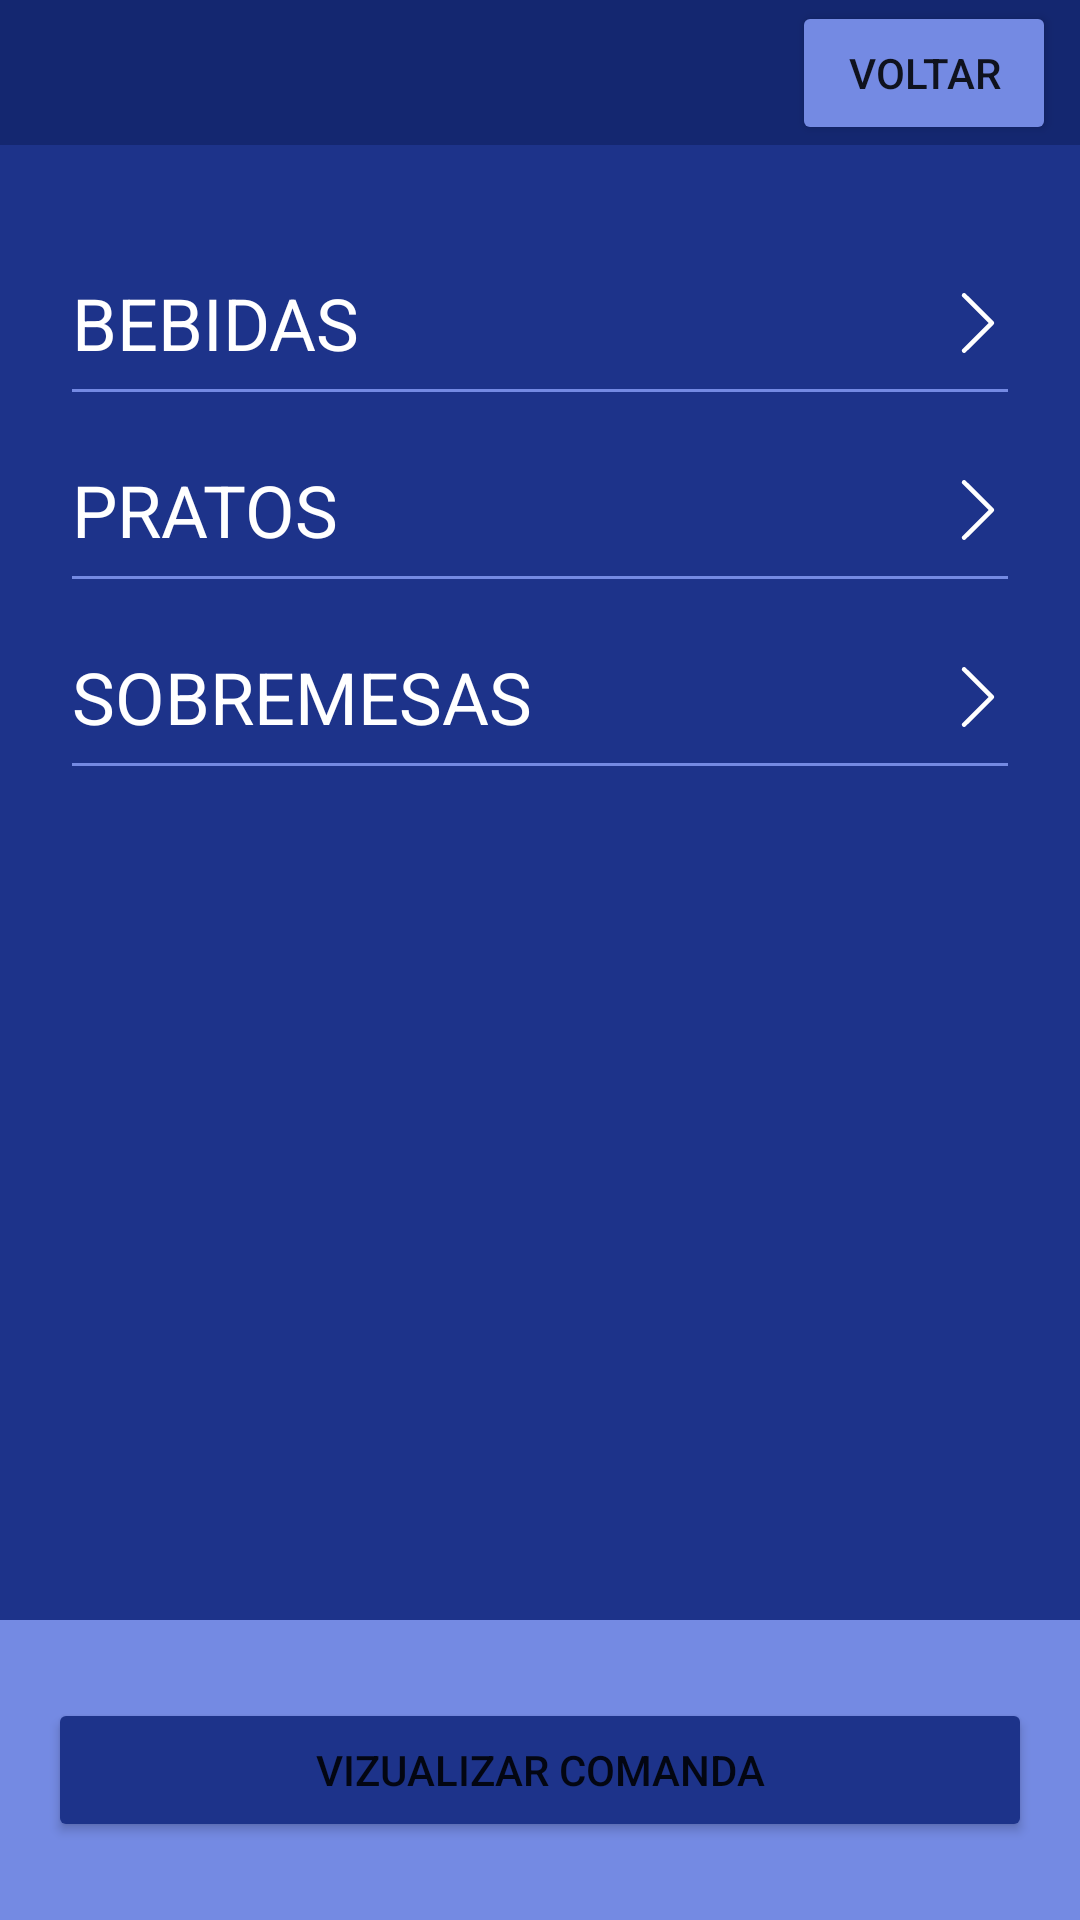

Screen size 1080 x 1920. Icon name, then its center in pixels as (x,y):
seta: (977,323), (977,510), (977,697)
